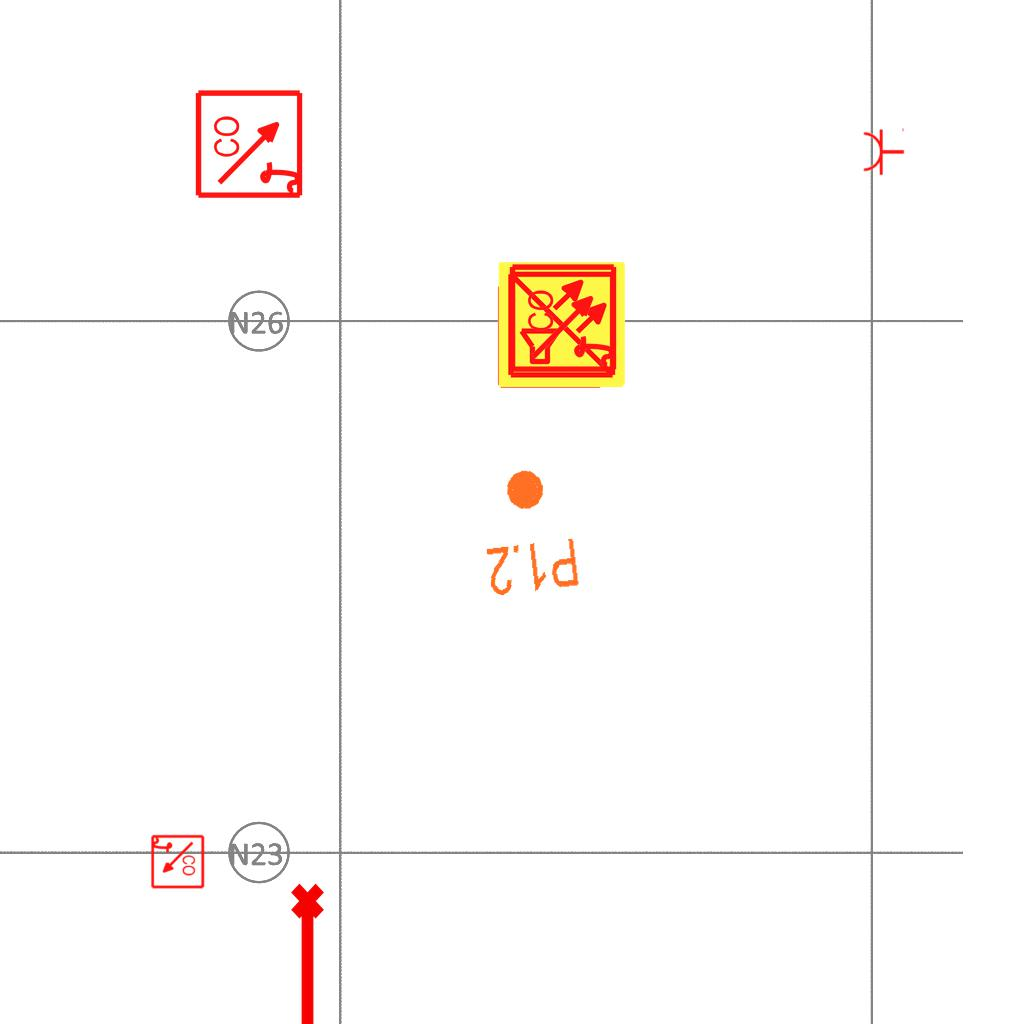ASR_Ansaugoeffnung: (287, 881, 333, 1024)
Downlight_LED_Einbauleuchten_Flur: (474, 461, 583, 601)
OKW_Multisensormelder_(Kombination_optischer_Rauch-Kahlenmonoxid_Waerme-Melder): (496, 259, 628, 391)
ROA_Rauchmelder_optisch_mit_Signalgeber_(Sockelsirene): (194, 87, 307, 200), (508, 261, 621, 374), (149, 834, 205, 890)
Schukosteckdose_einfach: (862, 126, 905, 176)
